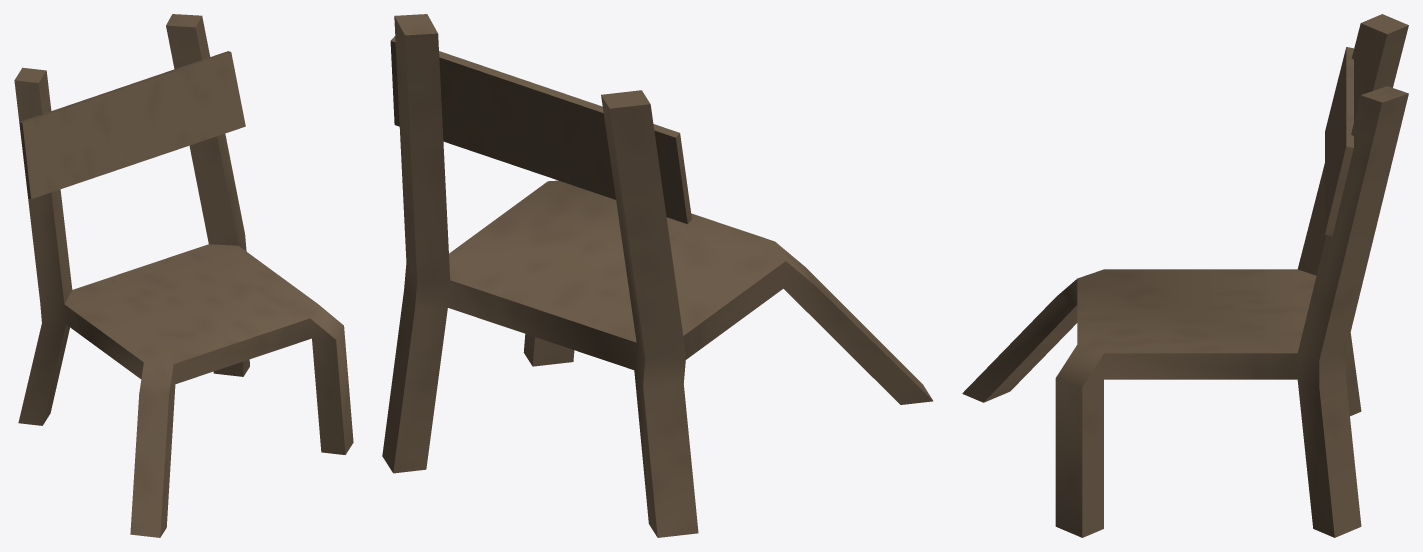
The model's file is BrokenChair.fbx.
The picture shows the model from 3 angles, left to right: view 1: azimuth 30°, elevation 25°; view 2: azimuth 150°, elevation 25°; view 3: azimuth 270°, elevation 25°; orthographic projection. The views are drawn at different scales.
Visible parts, largest first — view 1: Cube.081; view 2: Cube.081; view 3: Cube.081.
Boxes of the visible parts, <box> form: Cube.081: <box>14,14,353,537</box>; Cube.081: <box>382,14,933,537</box>; Cube.081: <box>962,14,1408,537</box>.
Bounding box in the file's own units: 106 × 133 × 129.
